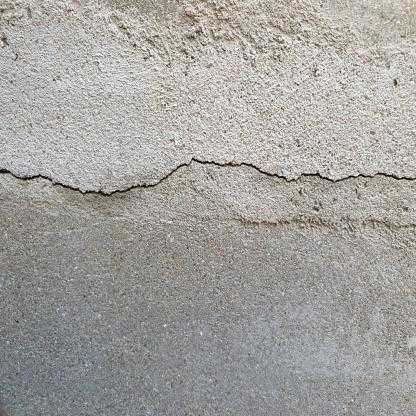crack: (1, 158, 416, 197)
